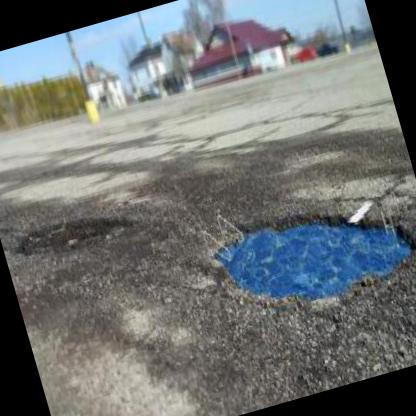pothole: (204, 176, 416, 323), (11, 198, 136, 266)
